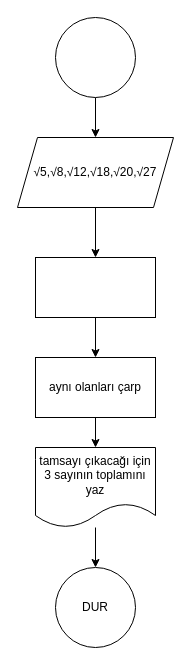
The diagram is 191 pixels wide and 665 high, and some of its shapes have lost their labels. The shapes that lost their labels are listed below. From the top down, each one's centre as x and y in pixels, then its label:
(95,57): BAŞLA
(95,287): sadeleştir
